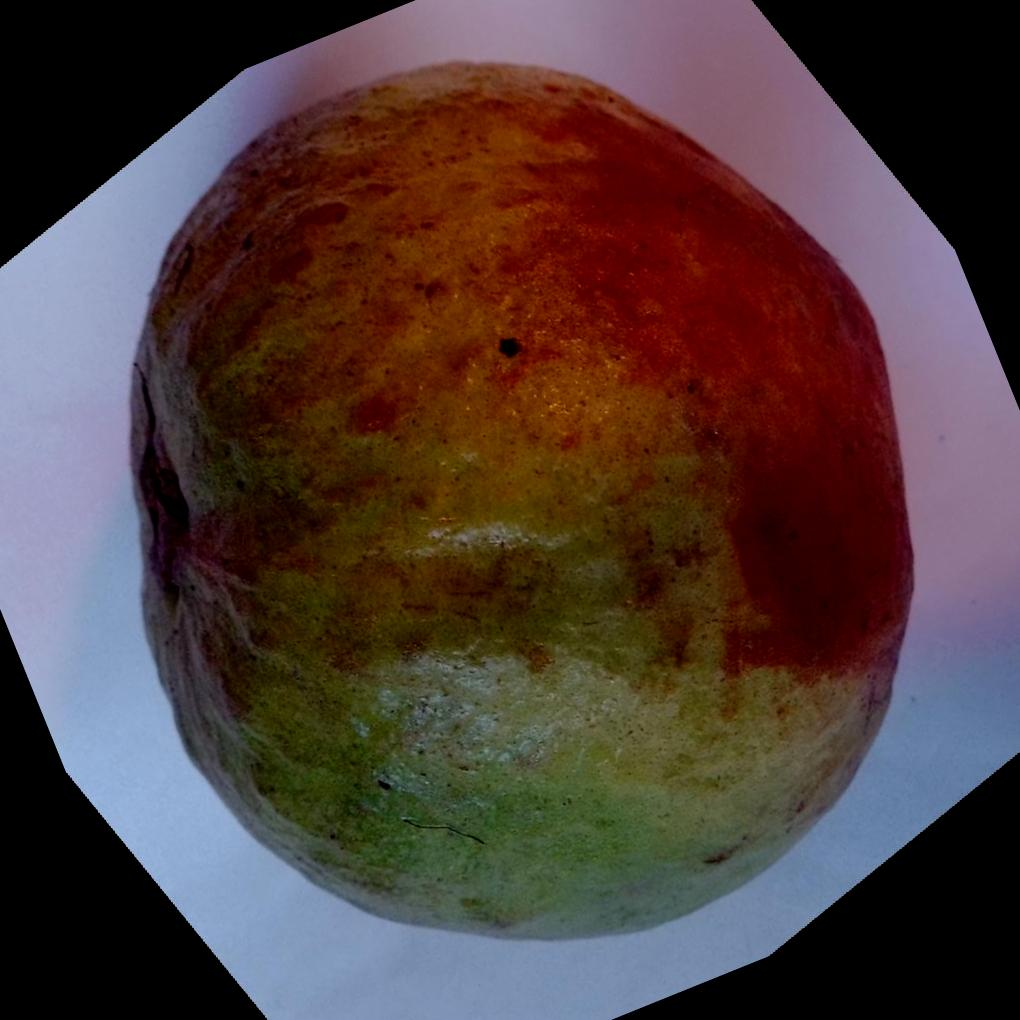FreshOrange: (129, 56, 919, 941)
